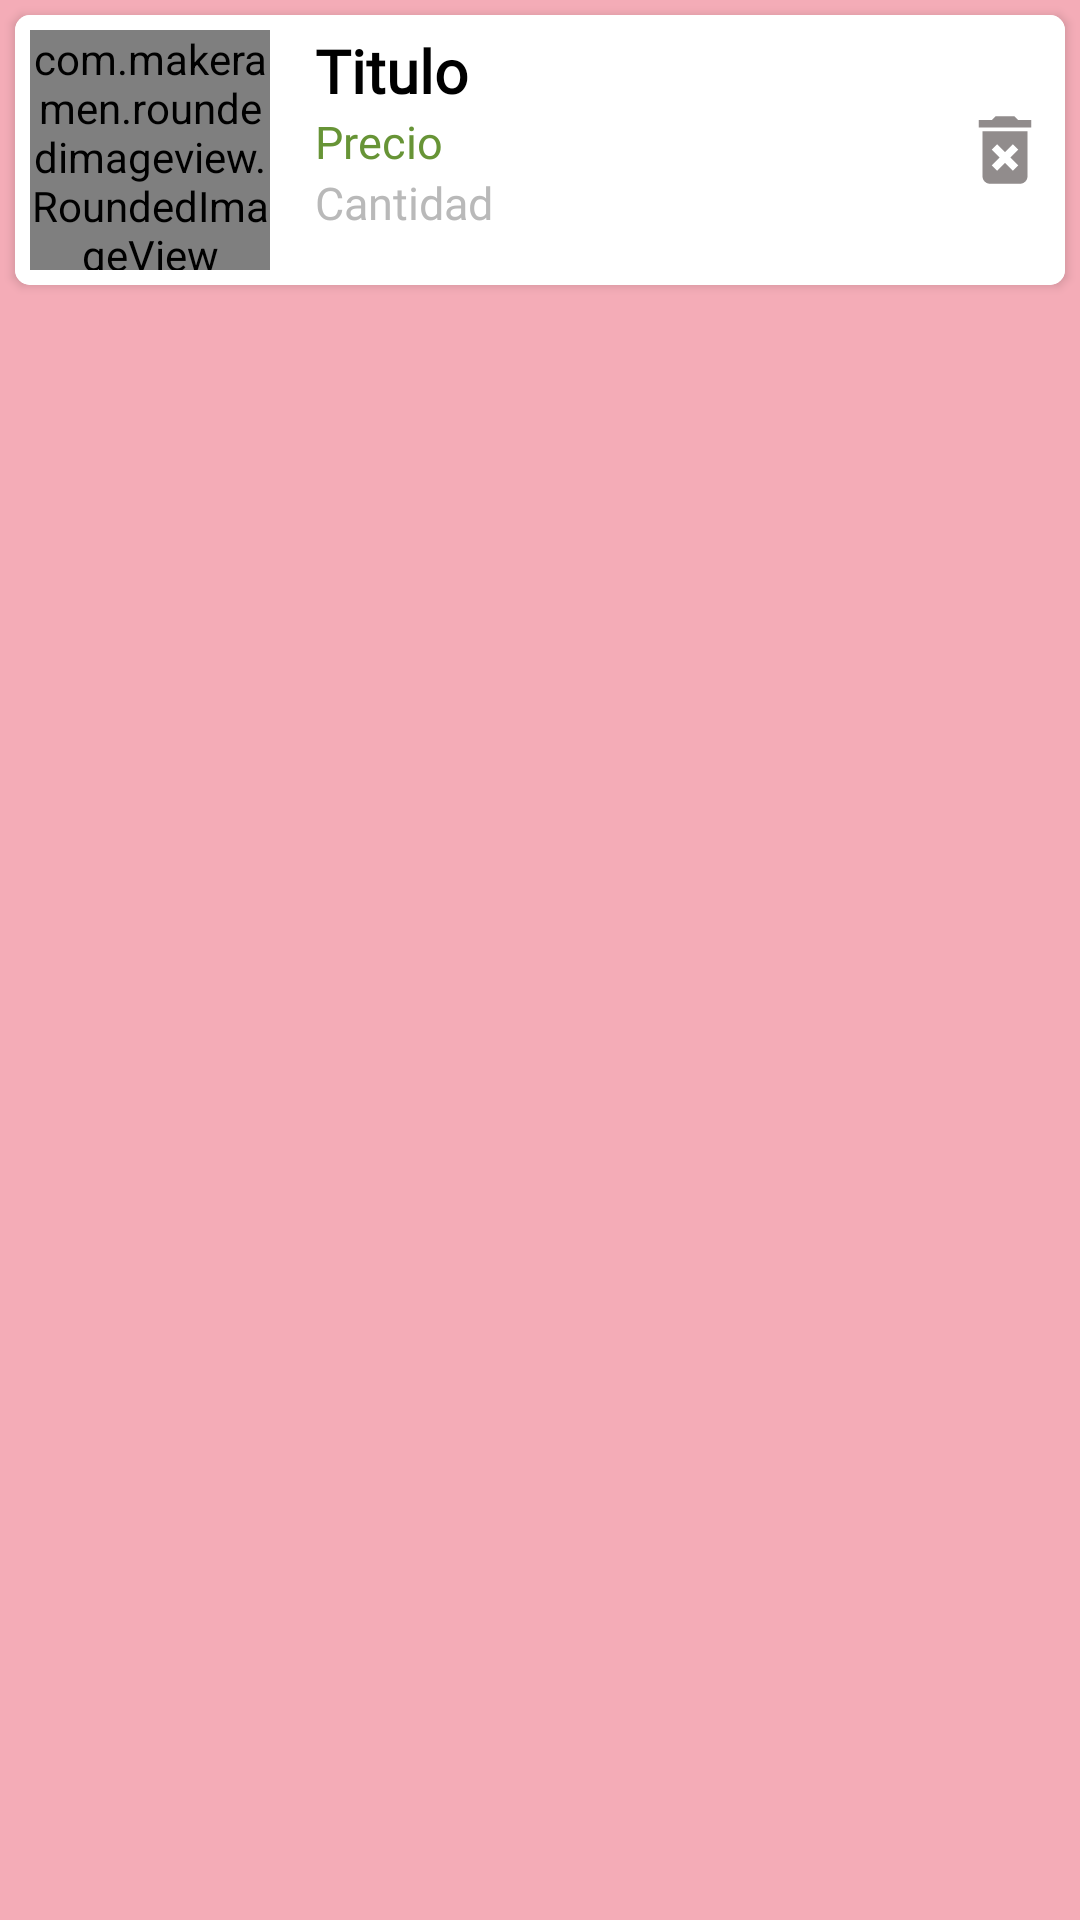

Icons on this 1080×1920 Android screen, each with the point to tap as point (x, y):
trash: point (1005, 150)
